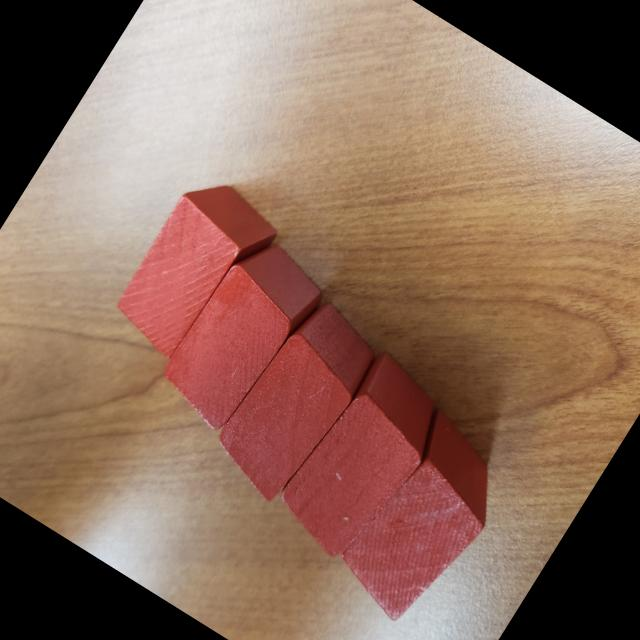red: (323, 408, 522, 636), (264, 346, 459, 572), (200, 288, 391, 514), (147, 228, 336, 448), (103, 166, 286, 374)
